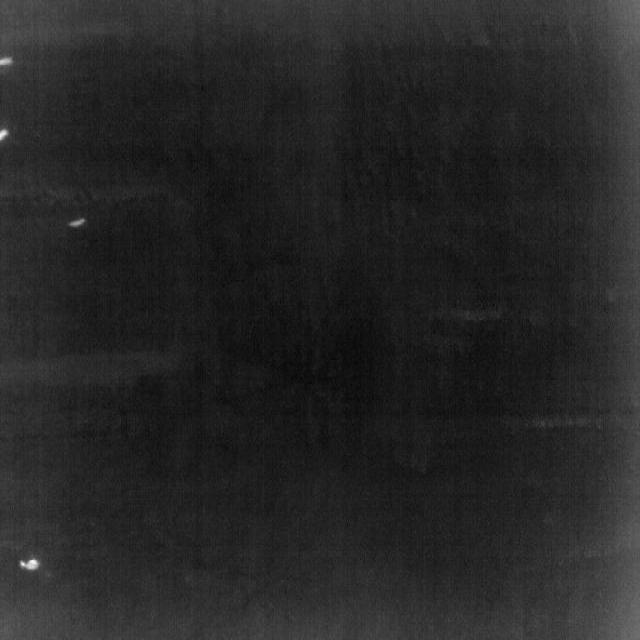deer: (19, 558, 40, 571), (68, 218, 86, 227), (0, 56, 15, 66), (0, 127, 10, 141)
